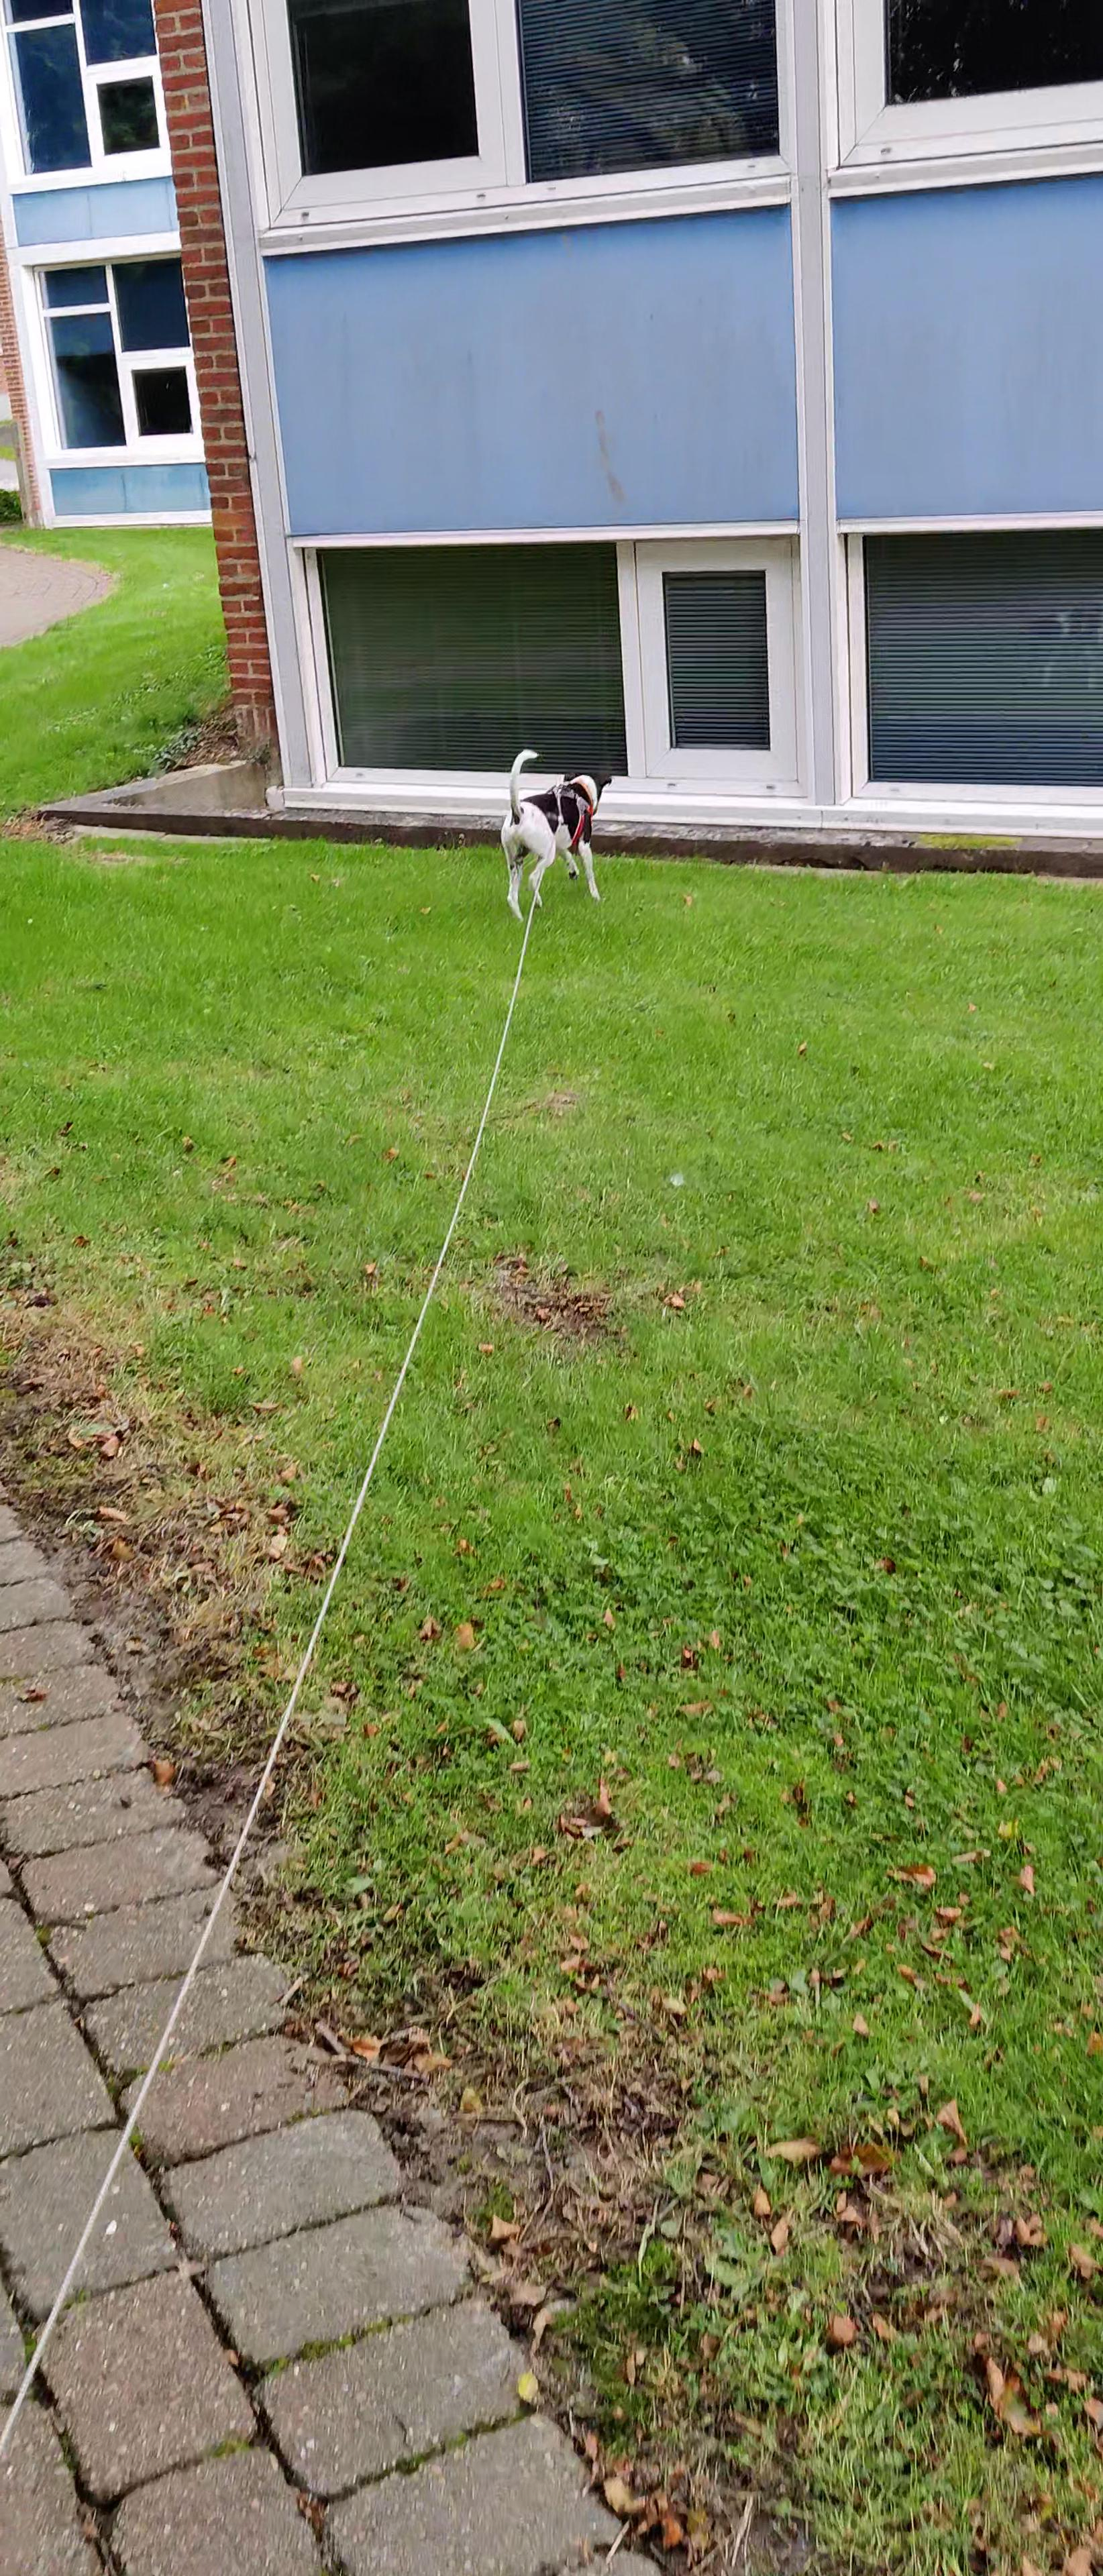Dog: (490, 733, 623, 928)
